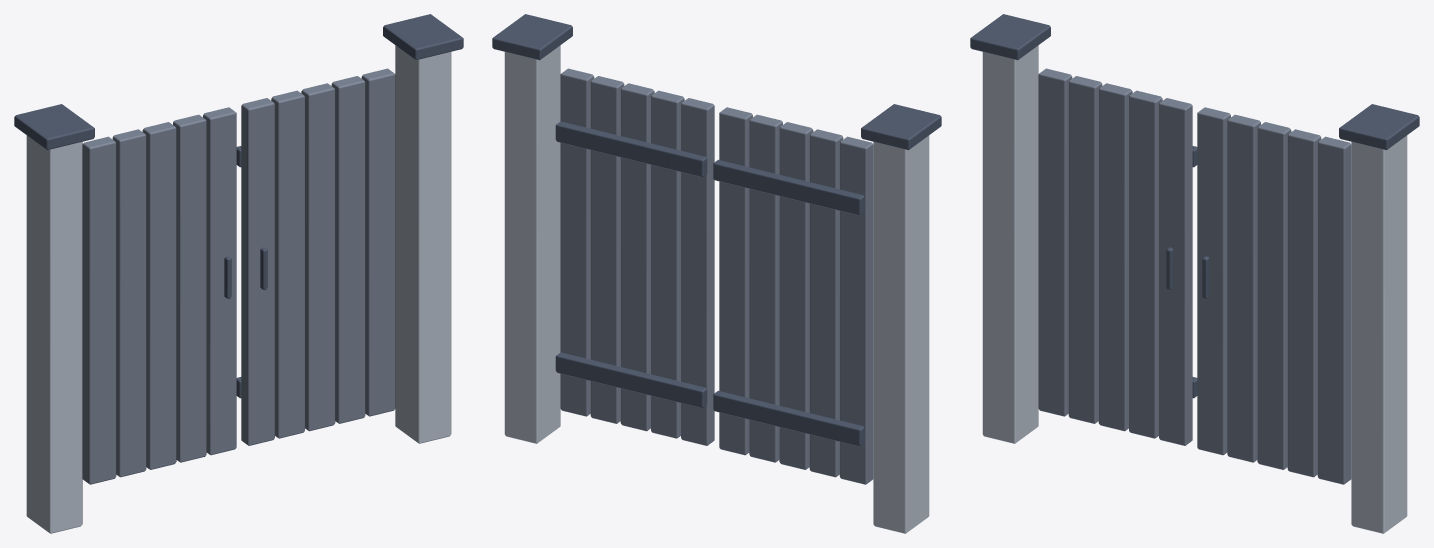
File: garden-gate-solid-lite.glb
3 views of the same model, side by side, from view 1: azimuth 30°, elevation 25°; view 2: azimuth 150°, elevation 25°; view 3: azimuth 330°, elevation 25° (orthographic).
Parts seen in each view (by area): view 1: garden-gate-solid; view 2: garden-gate-solid; view 3: garden-gate-solid.
Boxes of the visible parts, x1,y1,x2,y2 form: garden-gate-solid: (14, 14, 463, 533); garden-gate-solid: (492, 14, 941, 533); garden-gate-solid: (970, 14, 1419, 533).
Bounding box in the file's own units: 1.8 × 1.65 × 0.25.
